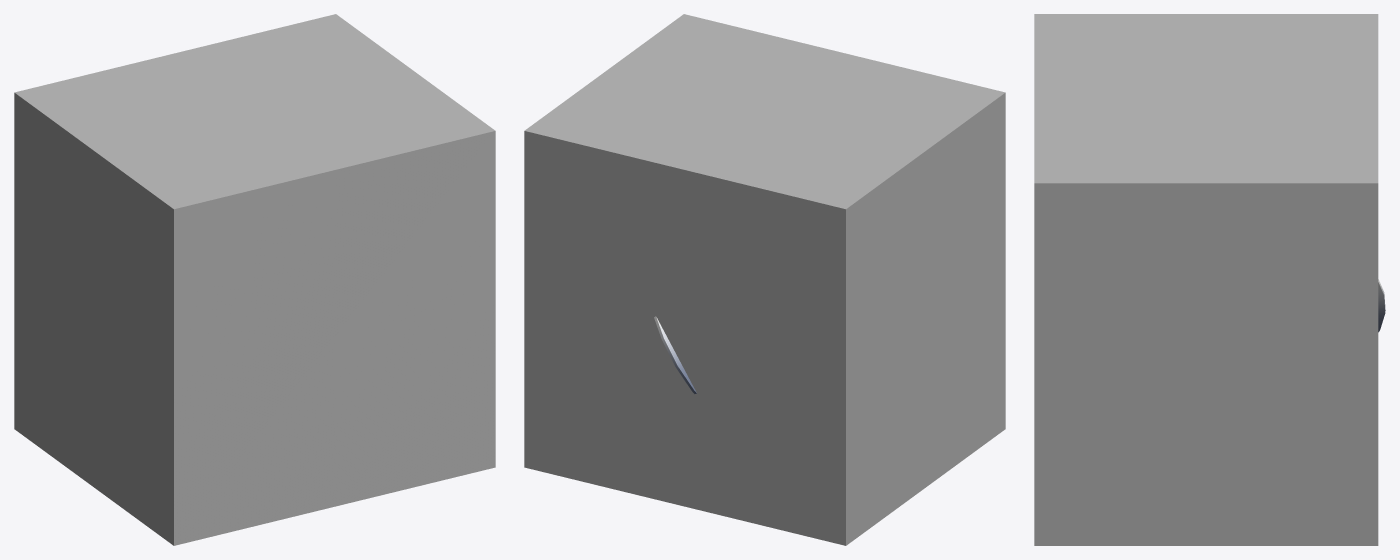
3 renders of one model, left to right at view 1: azimuth 30°, elevation 25°; view 2: azimuth 150°, elevation 25°; view 3: azimuth 270°, elevation 25°, orthographic. The views are drawn at different scales.
Parts seen in each view (by area): view 1: box; view 2: box; view 3: box.
Boxes of the visible parts, x1,y1,x2,y2 form: box: [14, 14, 495, 545]; box: [524, 14, 1005, 545]; box: [1034, 14, 1378, 545].
Bounding box in the file's own units: 0.226 × 0.226 × 0.1982.
Materials: 2 (1 with a texture image).
